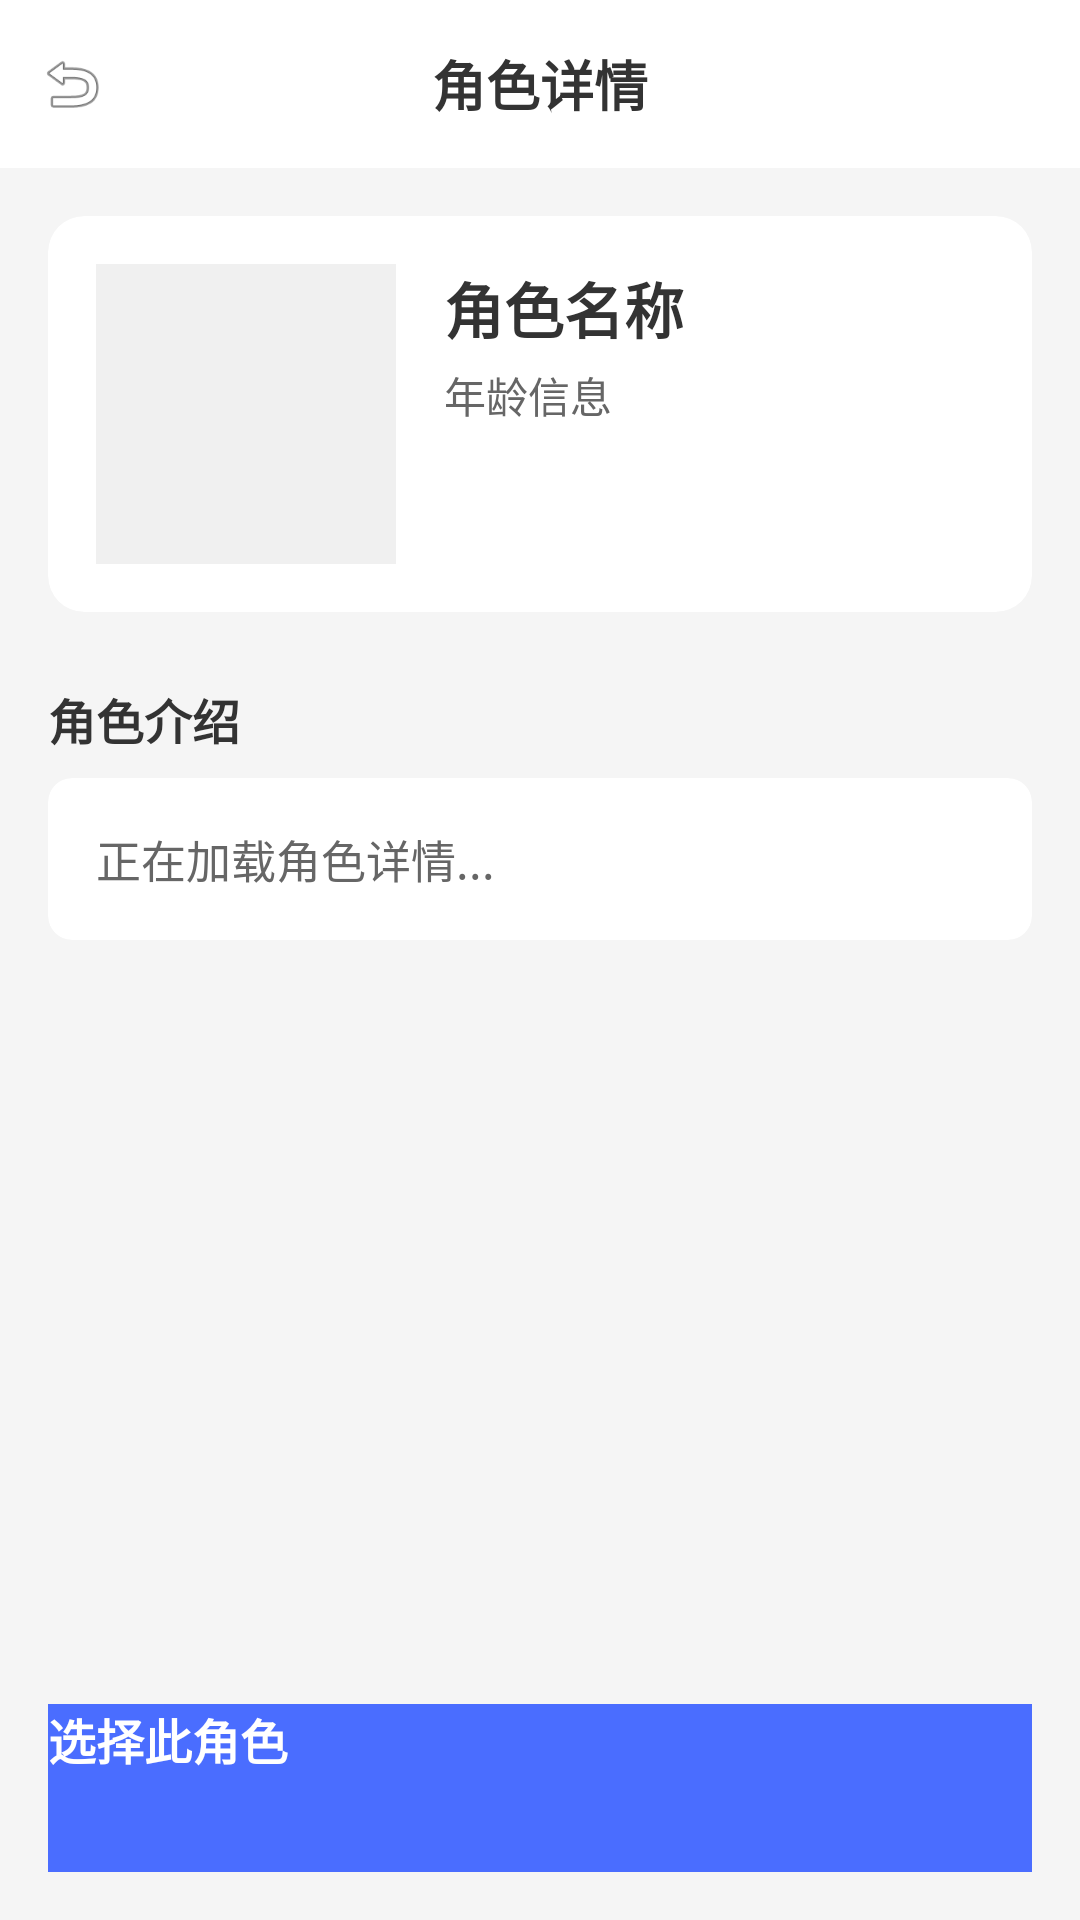

Where icons sit on this 1080px×1920px app screen, as (x1, y1, x2, y2):
revert: (47, 61, 99, 108)
